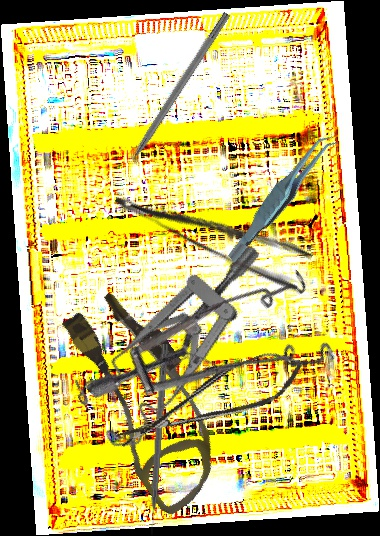Cannula: (41, 279, 251, 519)
Dressing Forceps: (112, 165, 314, 295)
Hook Surgical: (117, 10, 232, 177), (145, 343, 169, 536)
Micro Scissor: (109, 342, 311, 458)
Speculum: (83, 219, 361, 499), (50, 241, 311, 460)
Tissue Forceps: (205, 131, 358, 264)
